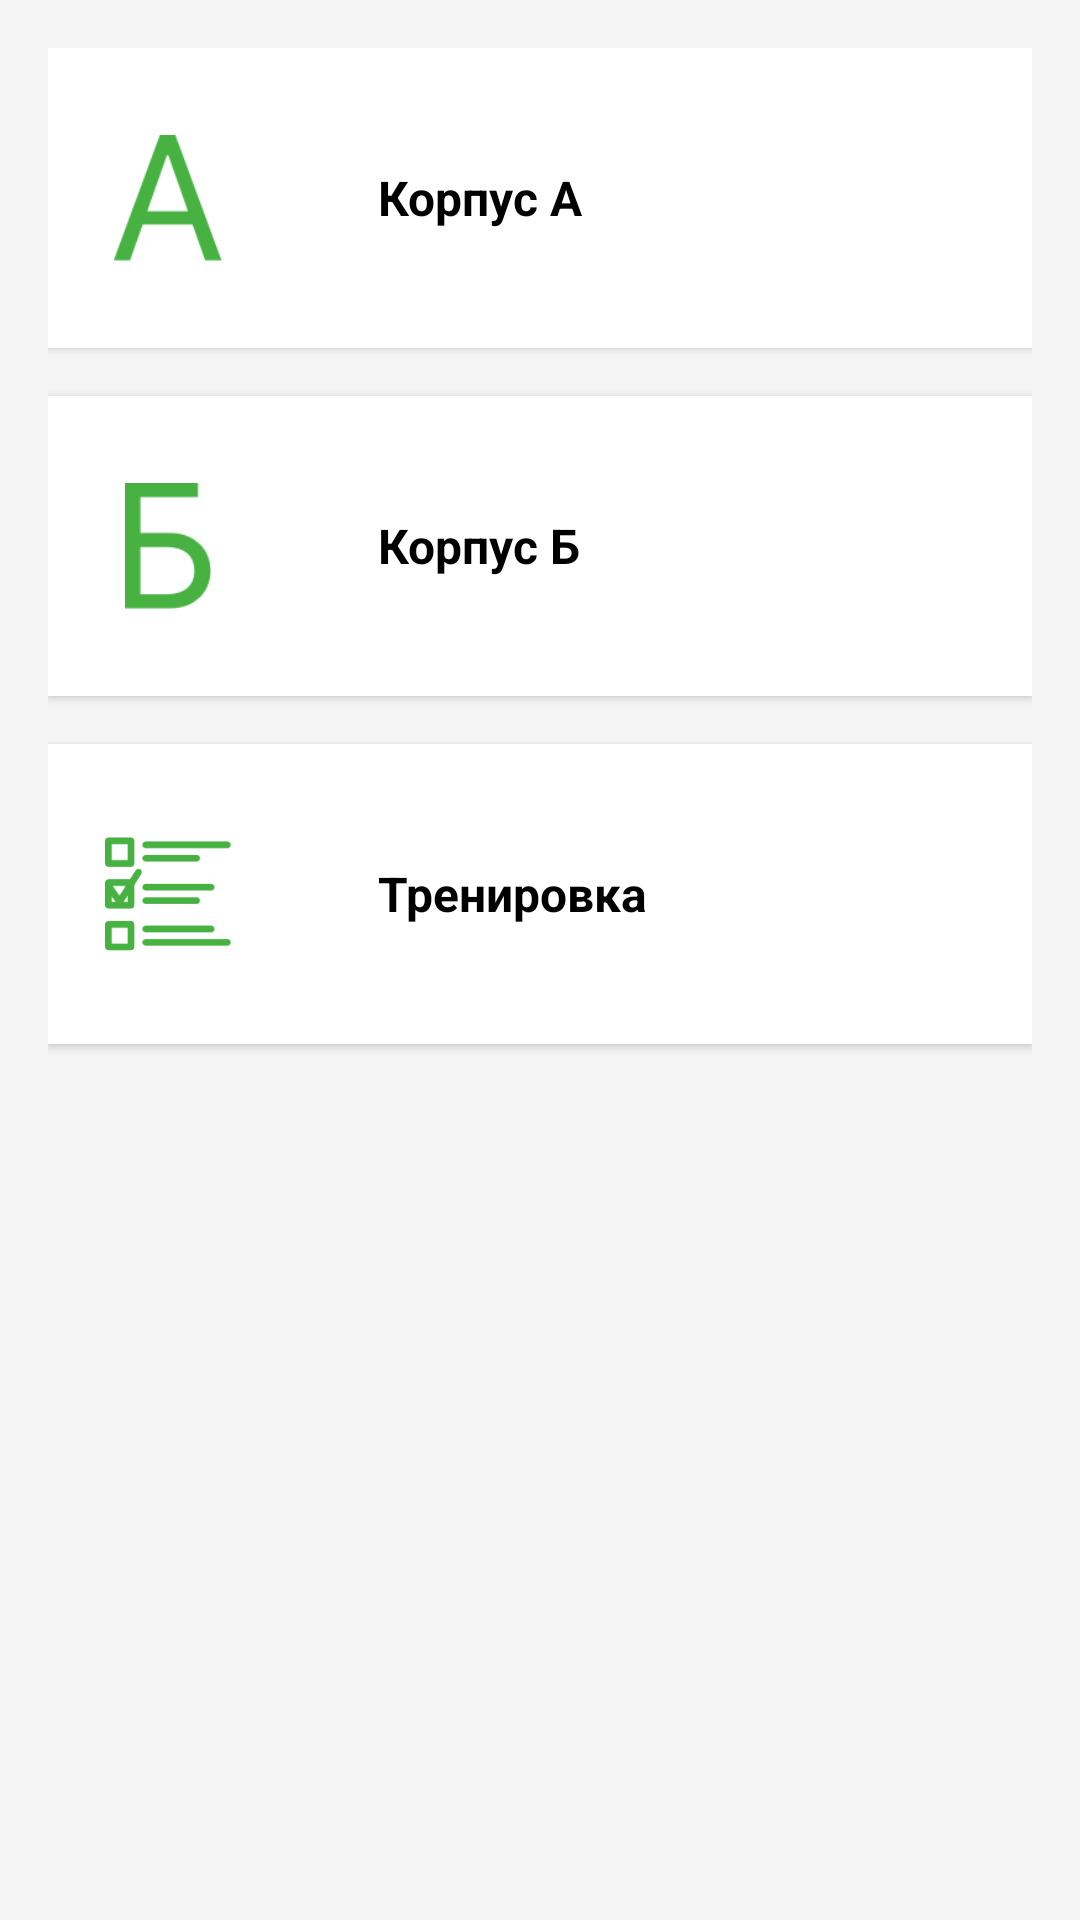

Screen size 1080 × 1920. Icon name, then its box in pixels as (x1, y1, x2, y2):
acorpus: (114, 135, 222, 261)
bcorpus: (125, 483, 211, 609)
training: (105, 837, 231, 951)
